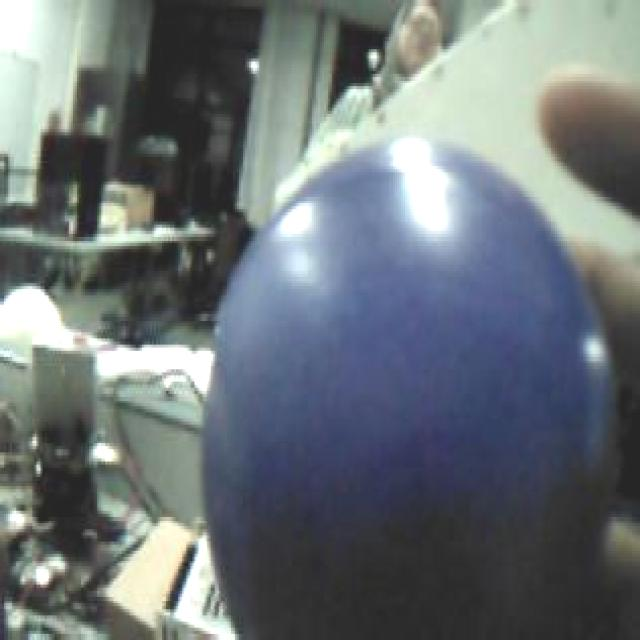BallPurple: (202, 138, 616, 640)
